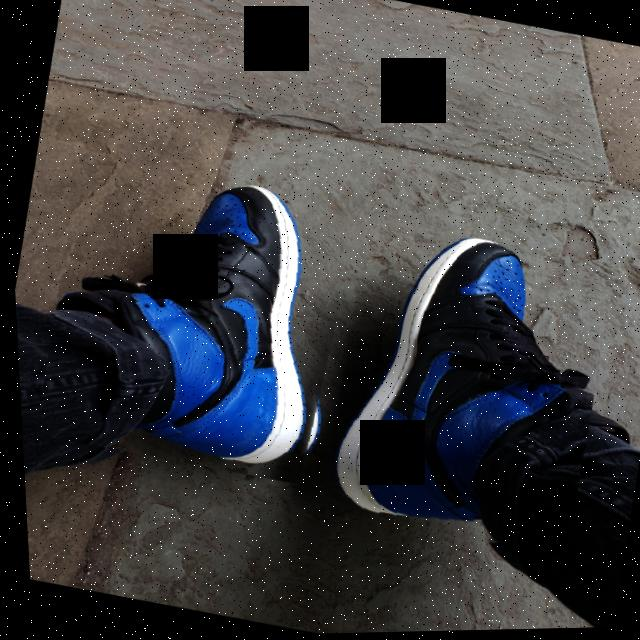shoe: (18, 141, 374, 494), (301, 216, 625, 574)
